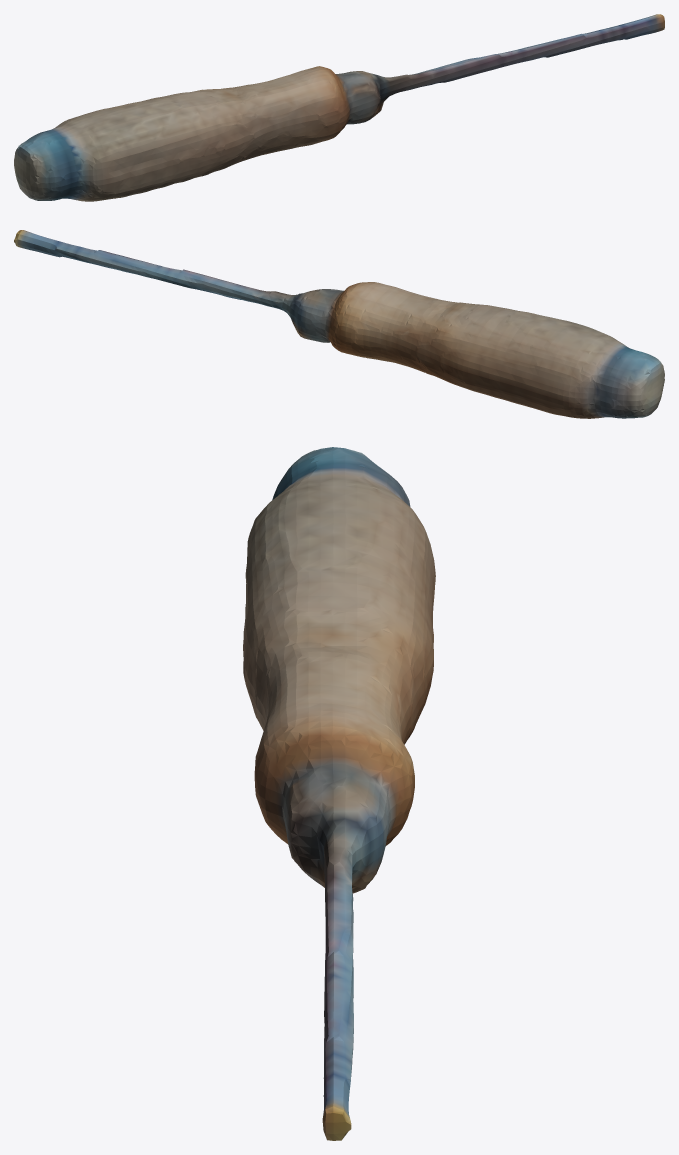
Rendered from real_flat_screwdriver.obj.
The picture shows the model from 3 angles, top to bottom: view 1: azimuth 30°, elevation 25°; view 2: azimuth 150°, elevation 25°; view 3: azimuth 270°, elevation 25°; orthographic projection. The views are drawn at different scales.
Bounding box in the file's own units: 0.2703 × 0.0311 × 0.0352.
